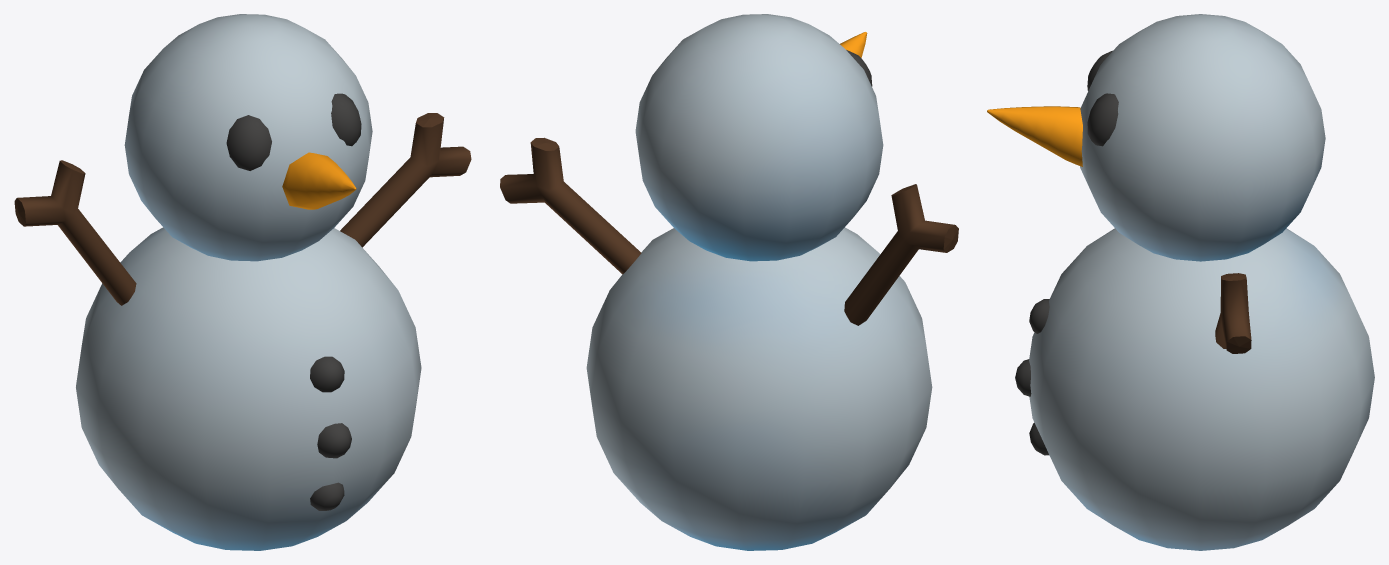
File: snowman.fbx
3 renders of one model, left to right at view 1: azimuth 30°, elevation 25°; view 2: azimuth 150°, elevation 25°; view 3: azimuth 270°, elevation 25°, orthographic.
Visible parts, largest first — view 1: snowman; view 2: snowman; view 3: snowman.
Boxes of the visible parts, x1=… form: snowman: x1=14, y1=14, x2=471, y2=550; snowman: x1=500, y1=14, x2=958, y2=550; snowman: x1=987, y1=14, x2=1374, y2=550.
Bounding box in the file's own units: 24.33 × 26.42 × 18.21.
